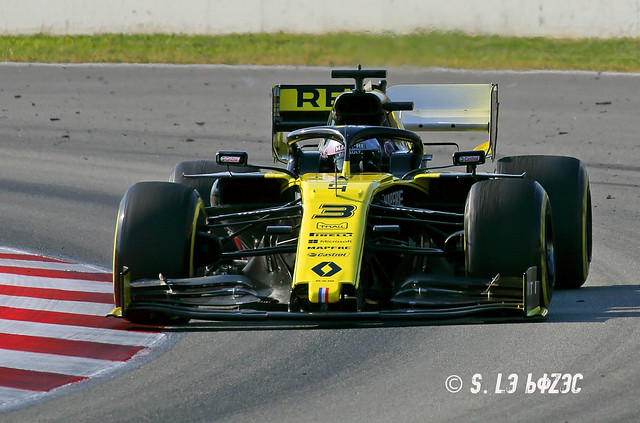F1 Car: (106, 62, 597, 327)
